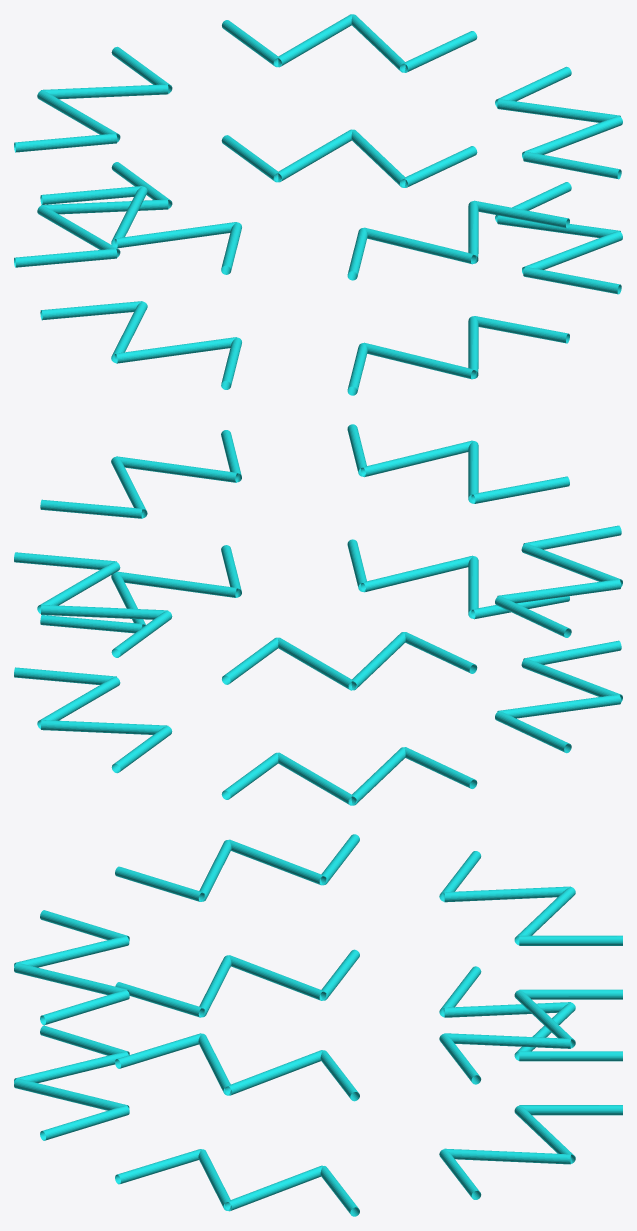
The model's file is trinexus3_2b.glb.
3 views of the same model, one above another, from view 1: azimuth 30°, elevation 25°; view 2: azimuth 150°, elevation 25°; view 3: azimuth 270°, elevation 25° (orthographic).
Parts seen in each view (by area): view 1: Mesh_17.001; view 2: Mesh_17.001; view 3: Mesh_17.001.
Part boxes in pixels (x1,y1,x2,y2): Mesh_17.001: (14, 14, 622, 395); Mesh_17.001: (14, 424, 622, 805); Mesh_17.001: (14, 834, 622, 1216).
Size of the model in its own units: 7.21 by 1.62 by 7.17.
